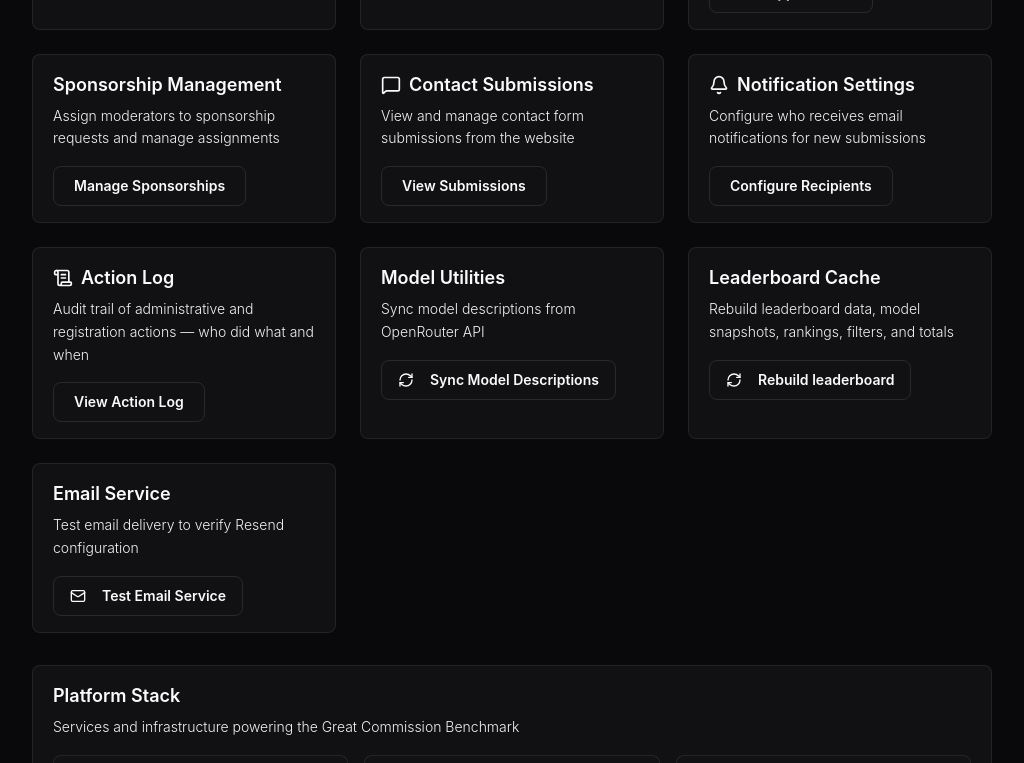
Test case: processes bounded batches to completion and totals the updates
The image size is (1024, 763).
(page scrolled)
Step 1. Click the button "Sync Model Descriptions" → (498, 380), box [381,360,616,400]
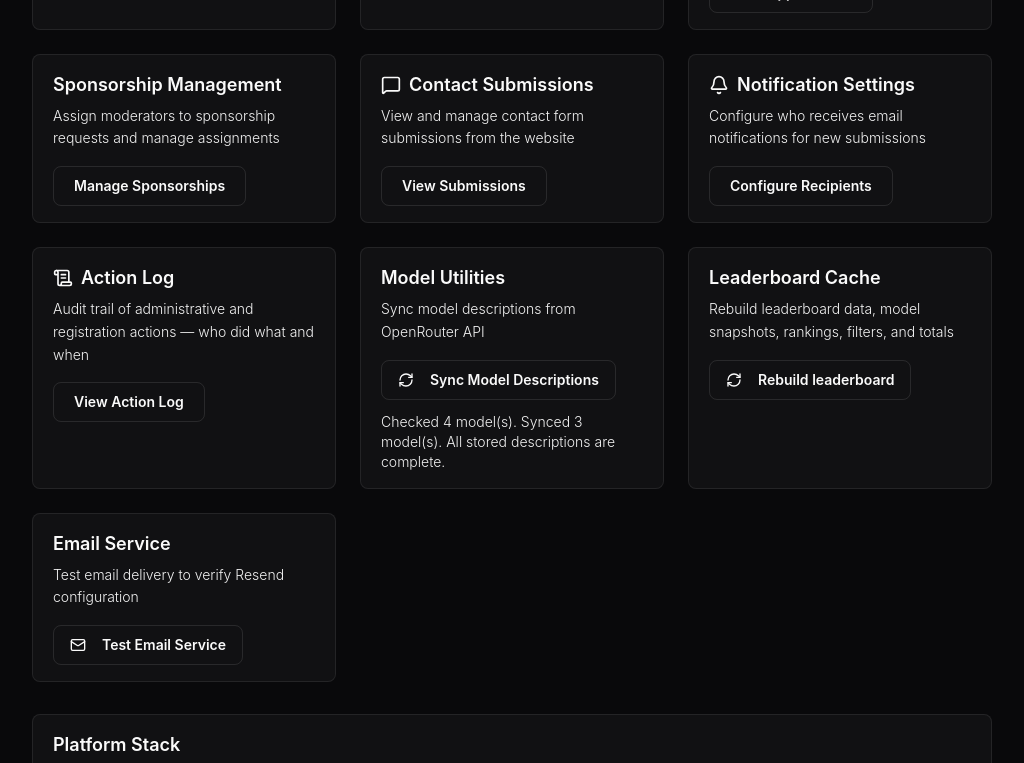
Result: the message reads "Checked 4 model(s). Synced 3 model(s). All stored descriptions are complete." at [381,412,615,470]
